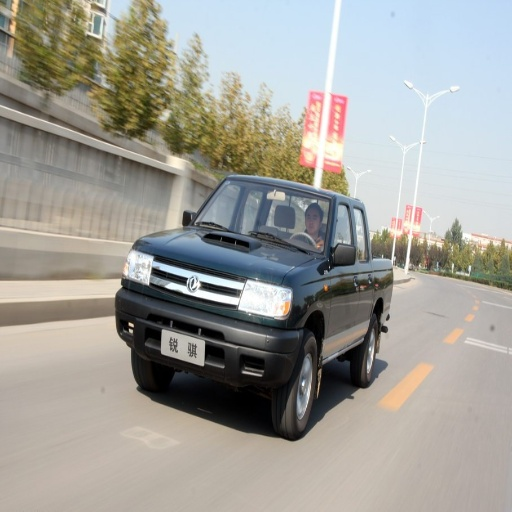front_bumper: (114, 252, 300, 393)
front_glass: (195, 179, 324, 251)
front_left_door: (327, 201, 354, 357)
